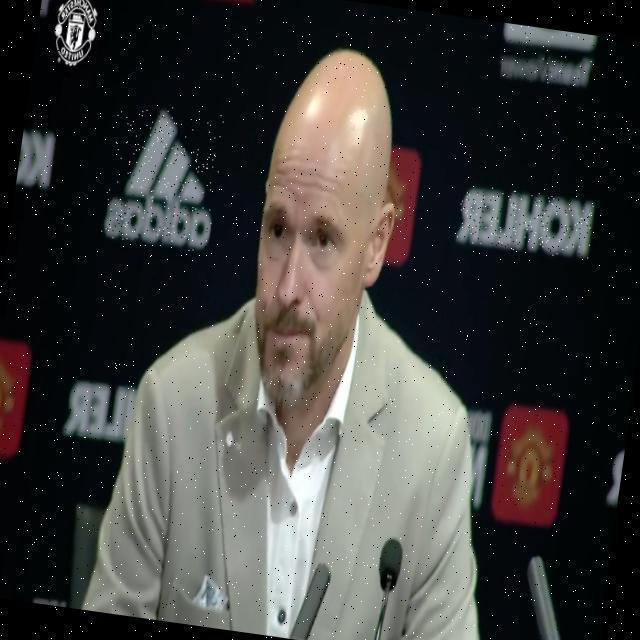Adidas: (100, 100, 227, 255)
Kohler: (455, 182, 597, 261)
TeamViewer: (498, 23, 597, 90)
